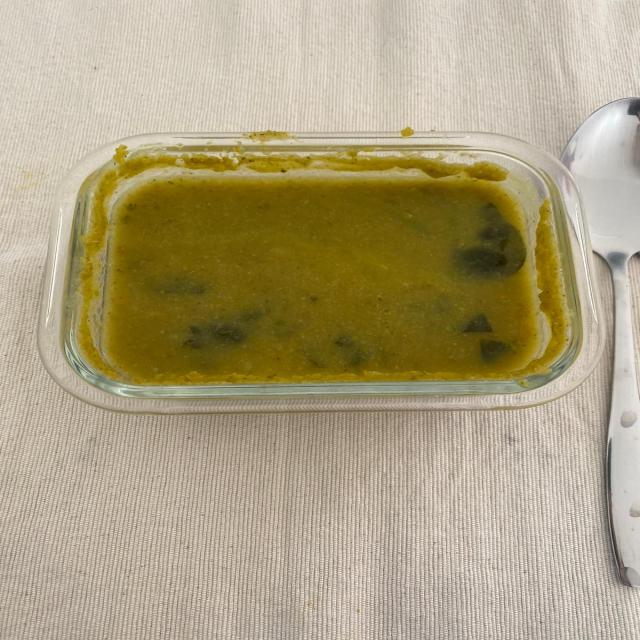soup: (104, 173, 541, 383)
soupbowl: (38, 128, 604, 413)
spoon: (562, 98, 639, 587)
